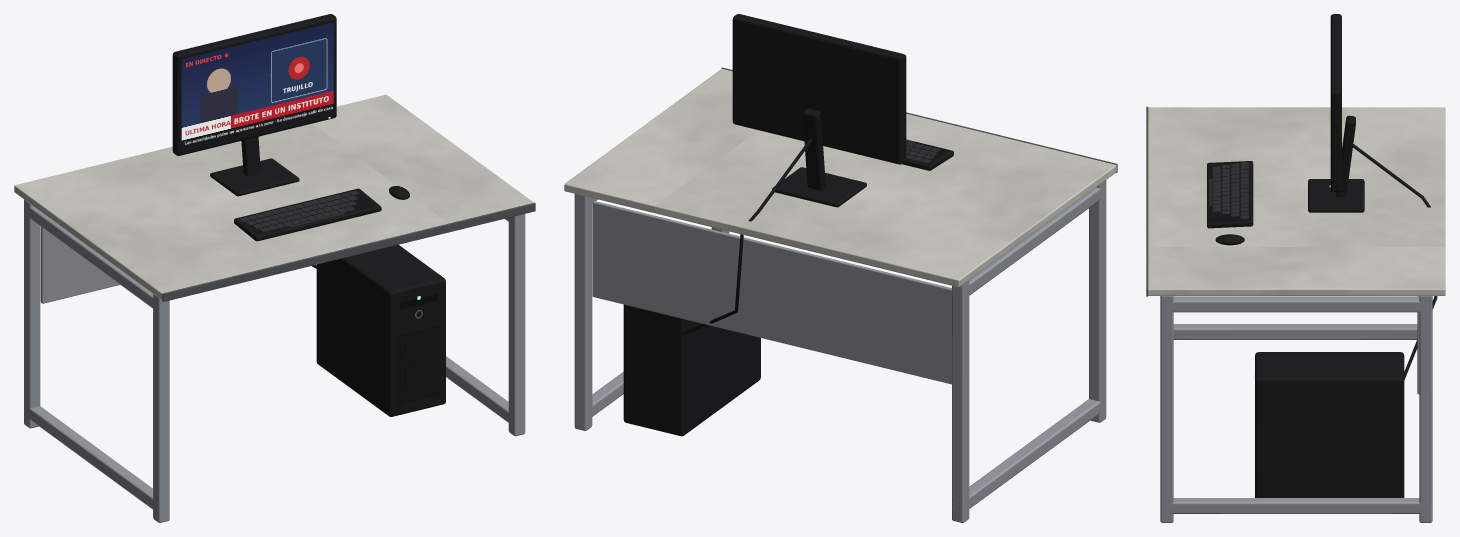
File: puesto_pc_noticias.glb
3 renders of one model, left to right at view 1: azimuth 30°, elevation 25°; view 2: azimuth 150°, elevation 25°; view 3: azimuth 270°, elevation 25°, orthographic. The views are drawn at different scales.
Visible parts, largest first — view 1: puesto_pc_noticias; view 2: puesto_pc_noticias; view 3: puesto_pc_noticias.
Part boxes in pixels (<box>): puesto_pc_noticias: <box>14,14,535,522</box>; puesto_pc_noticias: <box>564,14,1117,522</box>; puesto_pc_noticias: <box>1146,14,1445,522</box>.
Size of the model in its own units: 1.3 by 1.27 by 0.903.
9 materials, 4 textured.
